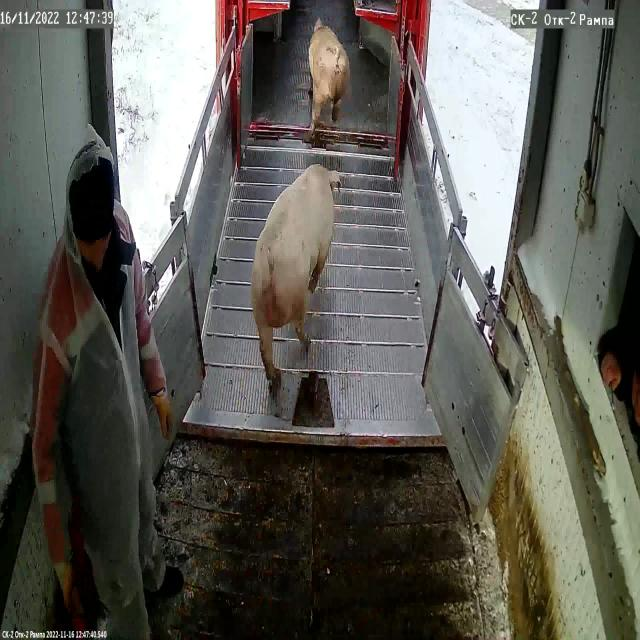pig: (251, 166, 341, 388), (309, 18, 349, 133)
